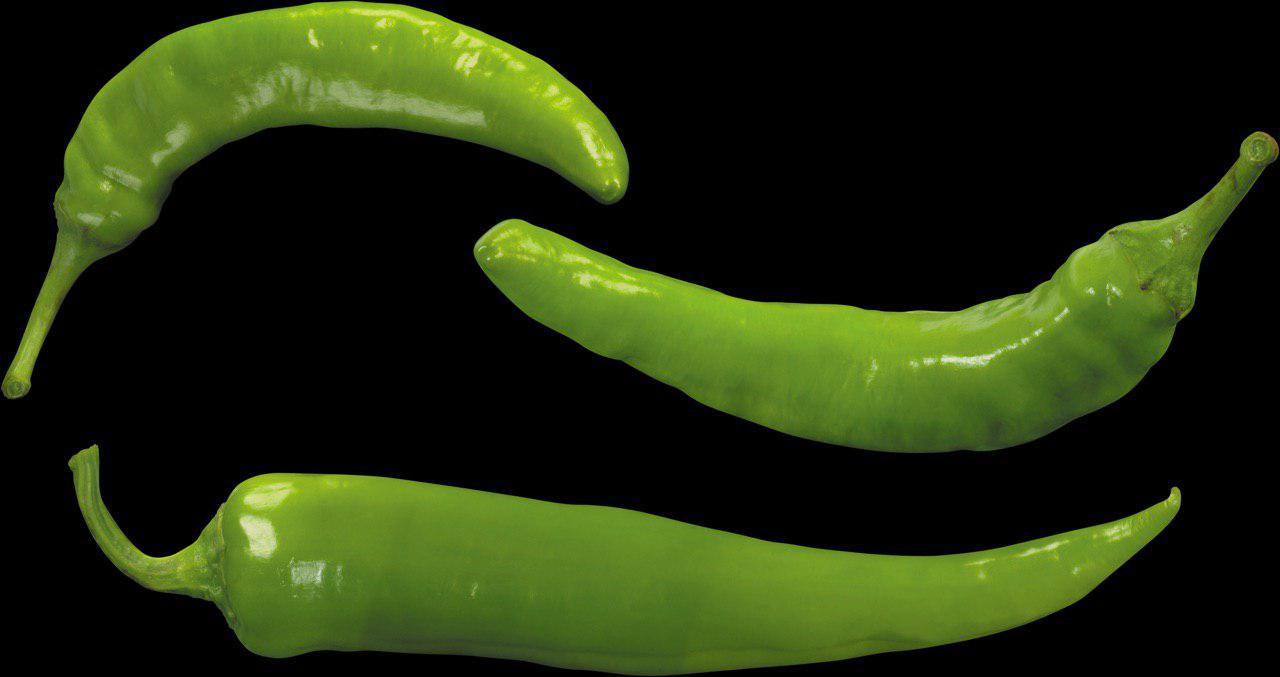lada hijau: (207, 435, 1200, 677), (464, 182, 1260, 483), (21, 1, 652, 208)
